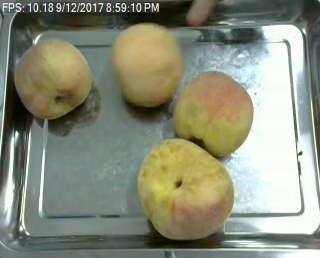Peach: (136, 138, 233, 239), (174, 71, 253, 154), (15, 38, 91, 120), (112, 23, 184, 108)
